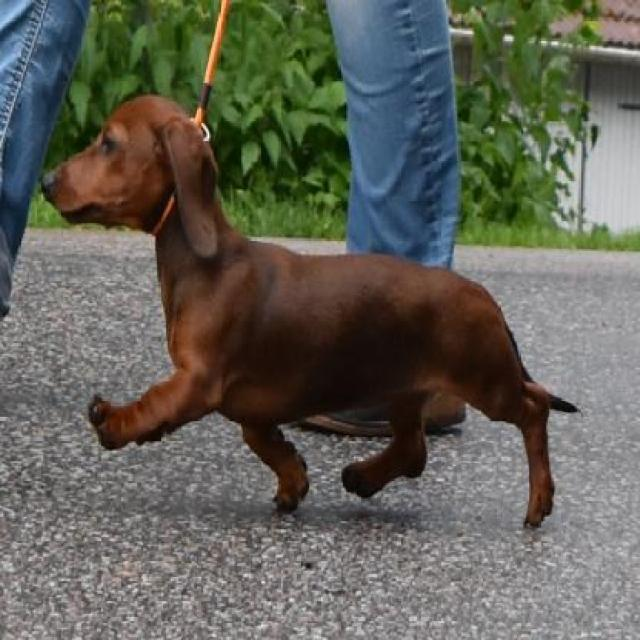Dog: (38, 94, 580, 535)
